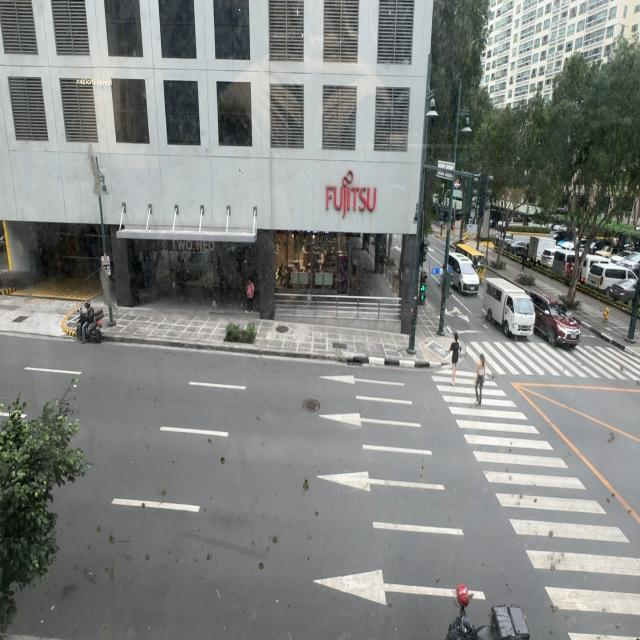crossing: (446, 332, 464, 384), (475, 353, 487, 404)
pedestrain: (246, 276, 254, 312), (521, 244, 527, 270)
